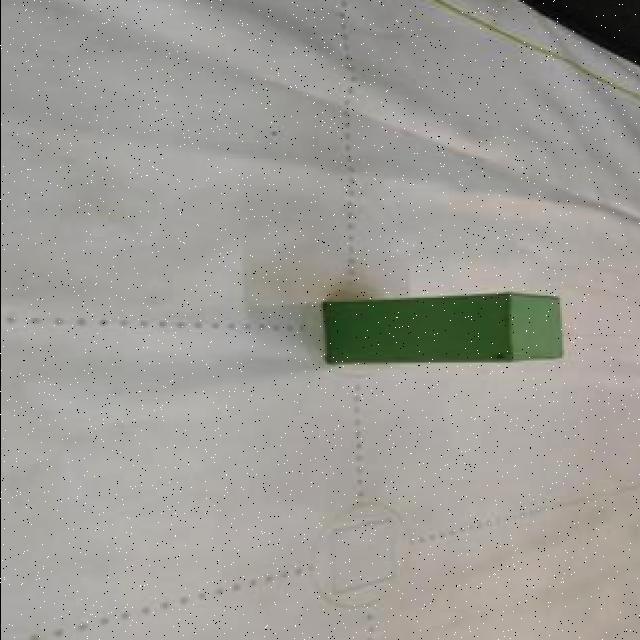greenbox: (321, 290, 568, 360)
